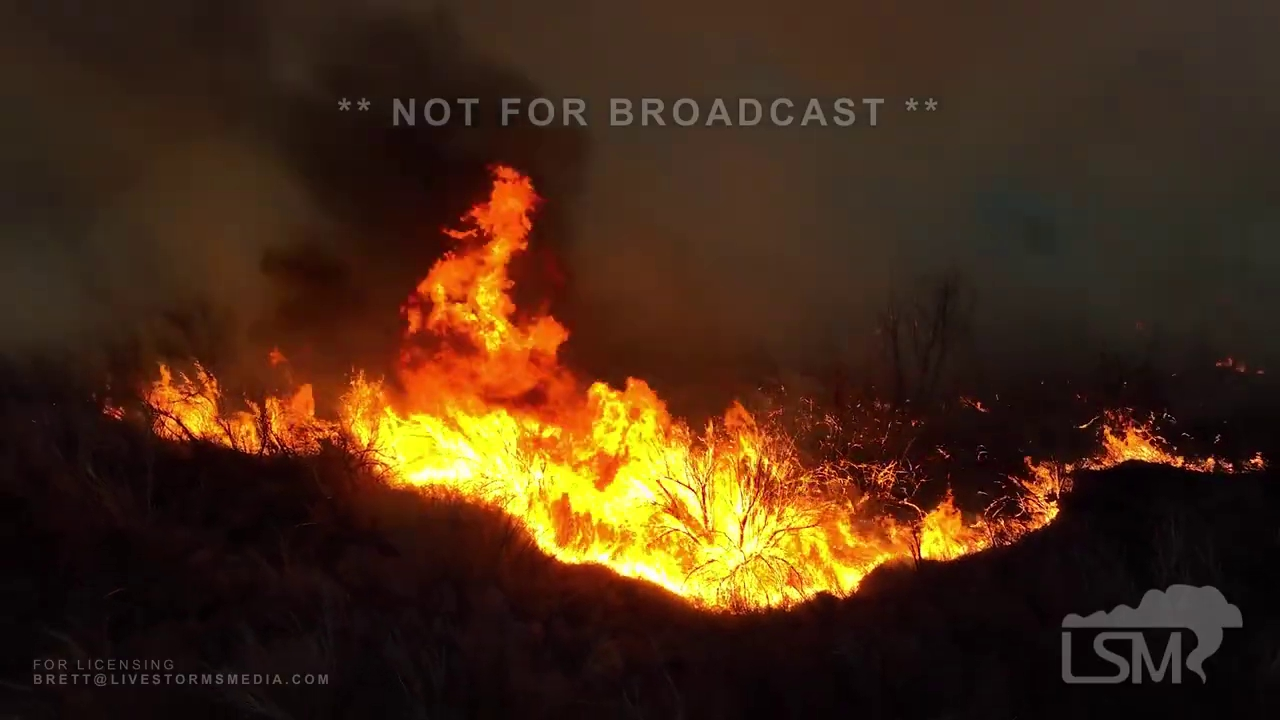forest_fire: (144, 166, 1248, 607), (272, 352, 286, 363), (1249, 455, 1262, 465), (869, 481, 873, 483), (863, 482, 866, 483)
